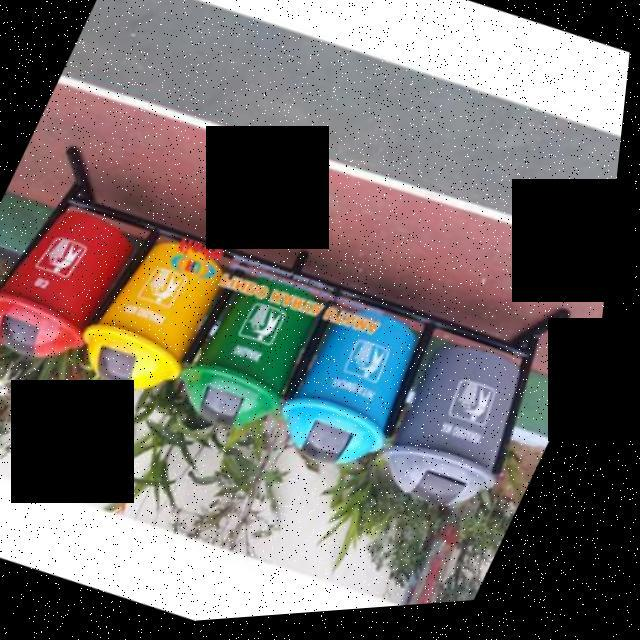bin: (370, 318, 577, 542), (266, 293, 453, 494), (74, 217, 248, 415), (167, 262, 342, 457), (0, 184, 153, 381)
